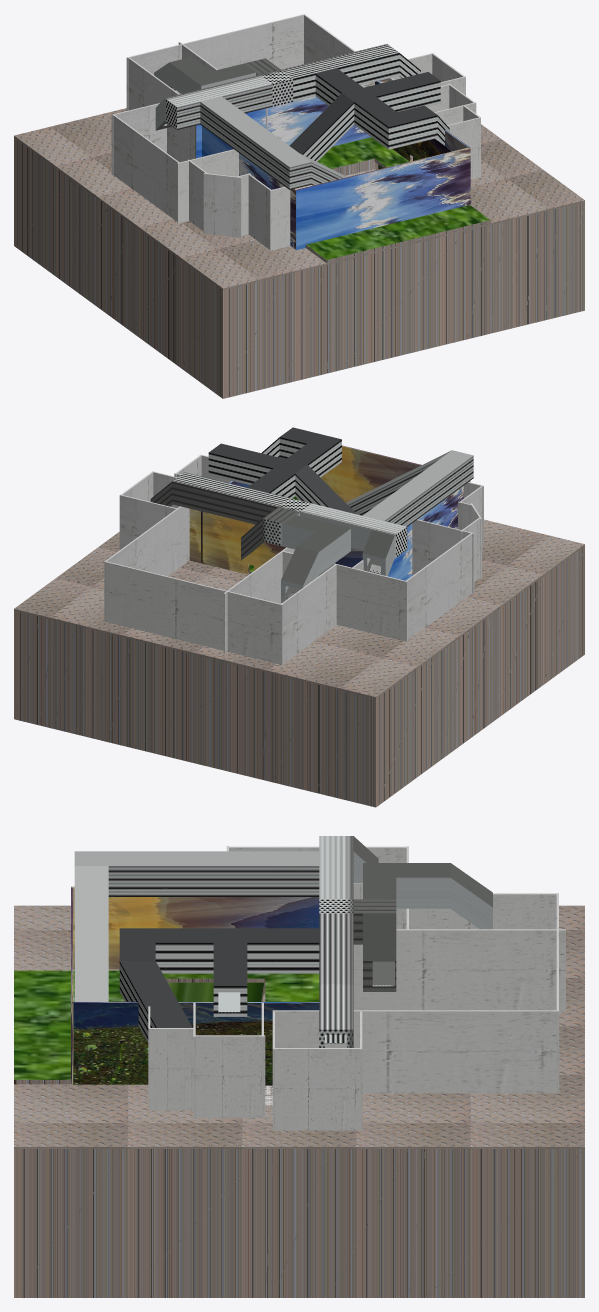
The model's file is Map_Arboreals.glb.
3 renders of one model, top to bottom at view 1: azimuth 30°, elevation 25°; view 2: azimuth 150°, elevation 25°; view 3: azimuth 270°, elevation 25°, orthographic. The views are drawn at different scales.
Parts seen in each view (by area): view 1: Floor.001-col-col, PIpes-col, Wall.003-col-col, Wall.014-col-col, Grass, Wall.019-col-col, Wall-col-col, Wall.025-col-col, Wall.020-col-col, Wall.015-col-col, Wall.002-col-col, Wall.013-col-col (+9 smaller); view 2: Floor.001-col-col, PIpes-col, Wall.014-col-col, Wall.016-col-col, Wall.019-col-col, Wall-col-col, Wall.013-col-col, Wall.015-col-col, Wall.003-col-col, Wall.020-col-col, Wall.017-col-col, Wall.009-col-col (+2 smaller); view 3: Floor.001-col-col, PIpes-col, Wall.013-col-col, Wall.017-col-col, Grass, Wall.001-col-col, Wall.002-col-col, Wall.011-col-col, Wall.004-col-col, Wall.008-col-col, Wall.015-col-col, Wall.019-col-col (+2 smaller).
Boxes of the visible parts, left/top/right/bottom form: Floor.001-col-col: left=14, top=108, right=584, bottom=398; PIpes-col: left=154, top=44, right=449, bottom=189; Wall.003-col-col: left=295, top=147, right=470, bottom=250; Wall.014-col-col: left=126, top=14, right=304, bottom=110; Grass: left=306, top=137, right=489, bottom=259; Wall.019-col-col: left=113, top=115, right=179, bottom=221; Wall-col-col: left=195, top=78, right=387, bottom=158; Wall.025-col-col: left=203, top=173, right=241, bottom=237; Wall.020-col-col: left=177, top=149, right=238, bottom=223; Wall.015-col-col: left=128, top=57, right=179, bottom=110; Wall.002-col-col: left=202, top=126, right=296, bottom=249; Wall.013-col-col: left=303, top=14, right=393, bottom=81; Floor.001-col-col: left=14, top=519, right=584, bottom=807; PIpes-col: left=150, top=427, right=473, bottom=602; Wall.014-col-col: left=105, top=561, right=282, bottom=664; Wall.016-col-col: left=282, top=551, right=407, bottom=641; Wall.019-col-col: left=405, top=532, right=472, bottom=640; Wall-col-col: left=189, top=508, right=363, bottom=574; Wall.013-col-col: left=104, top=506, right=189, bottom=621; Wall.015-col-col: left=281, top=564, right=336, bottom=663; Wall.003-col-col: left=321, top=445, right=470, bottom=502; Wall.020-col-col: left=412, top=519, right=474, bottom=593; Wall.017-col-col: left=223, top=547, right=294, bottom=653; Wall.009-col-col: left=119, top=494, right=176, bottom=549; Floor.001-col-col: left=14, top=905, right=584, bottom=1297; PIpes-col: left=74, top=836, right=492, bottom=1047; Wall.013-col-col: left=272, top=1010, right=559, bottom=1093; Wall.017-col-col: left=353, top=929, right=565, bottom=1011; Grass: left=14, top=970, right=319, bottom=1079; Wall.001-col-col: left=71, top=1002, right=319, bottom=1085; Wall.002-col-col: left=71, top=886, right=319, bottom=969; Wall.011-col-col: left=275, top=1048, right=359, bottom=1130; Wall.004-col-col: left=194, top=1035, right=265, bottom=1117; Wall.008-col-col: left=149, top=1028, right=194, bottom=1110; Wall.015-col-col: left=409, top=893, right=558, bottom=929; Wall.019-col-col: left=227, top=846, right=406, bottom=862.
Size of the model in its own units: 100 by 51.13 by 100.
Materials: 5 (5 with a texture image).
